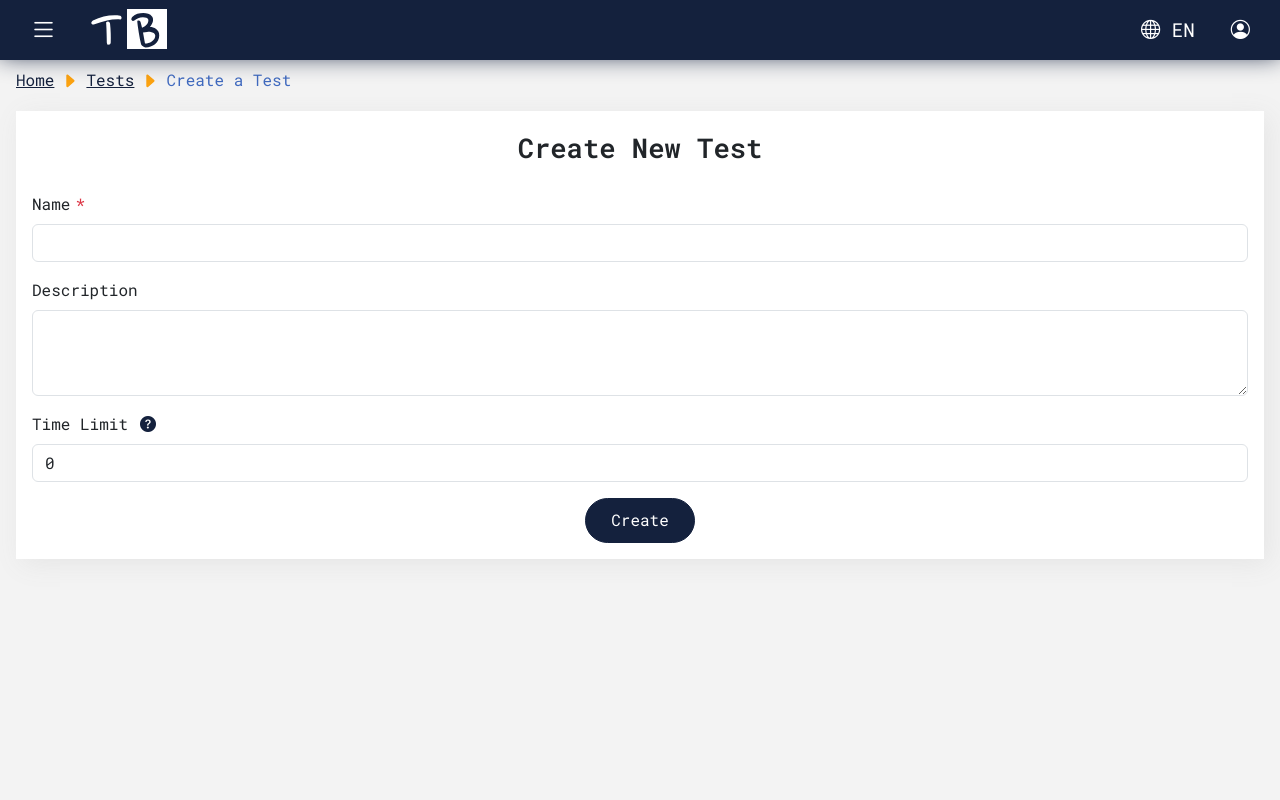
Test: CreateTestView › submit invalid values
Type "Test name" into the field with id "test-input-name". click: (640, 243)
box: [32, 224, 1248, 262]
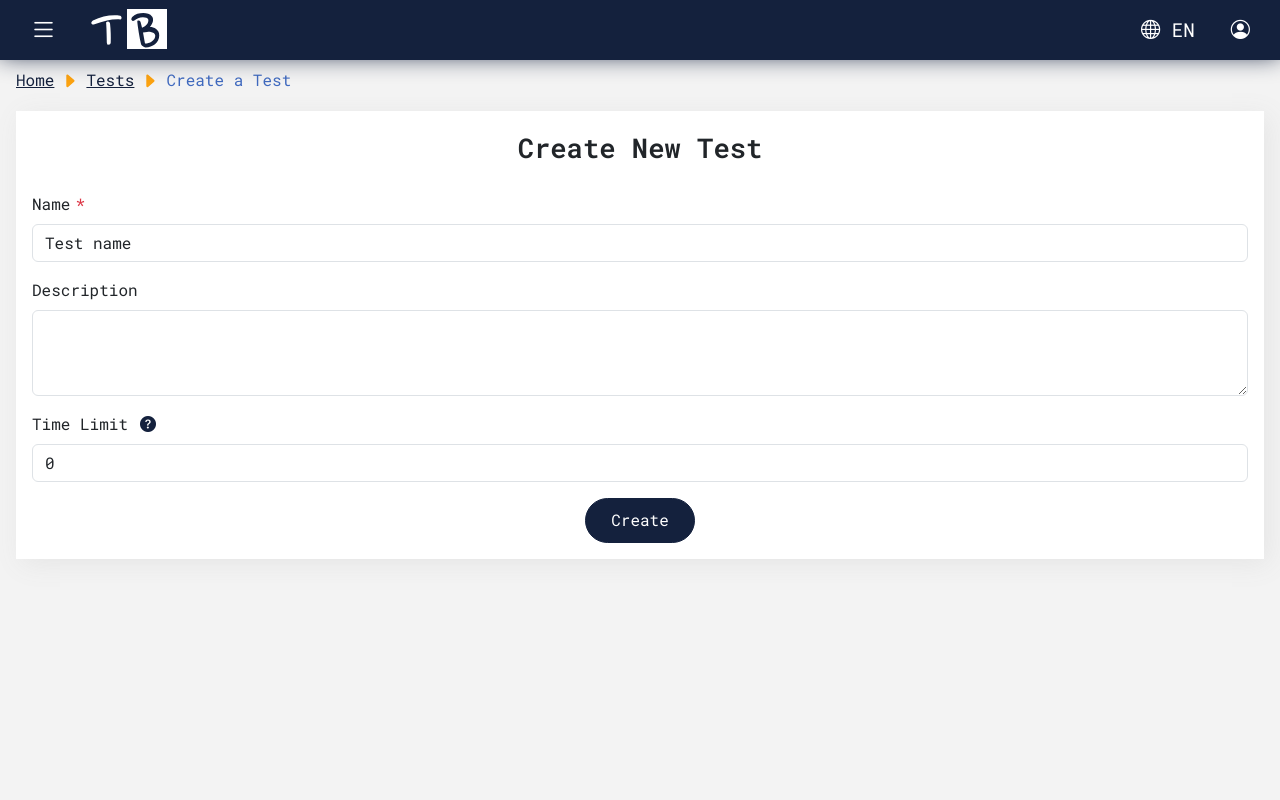
Replace the text in the number field with id "test-input-timelimit" with "-1". click: (640, 463)
box: [32, 444, 1248, 482]
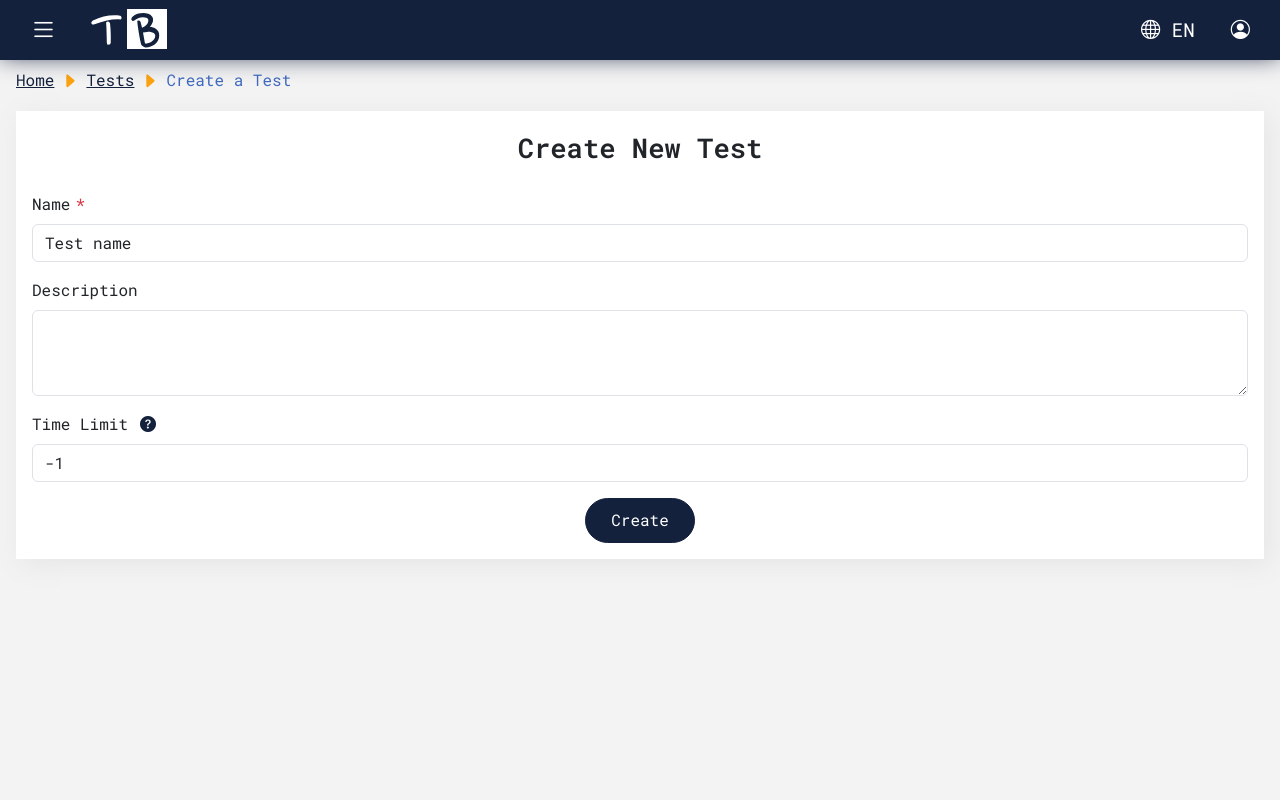
Click the button "Create". click: click(640, 520)
box: [585, 498, 695, 543]
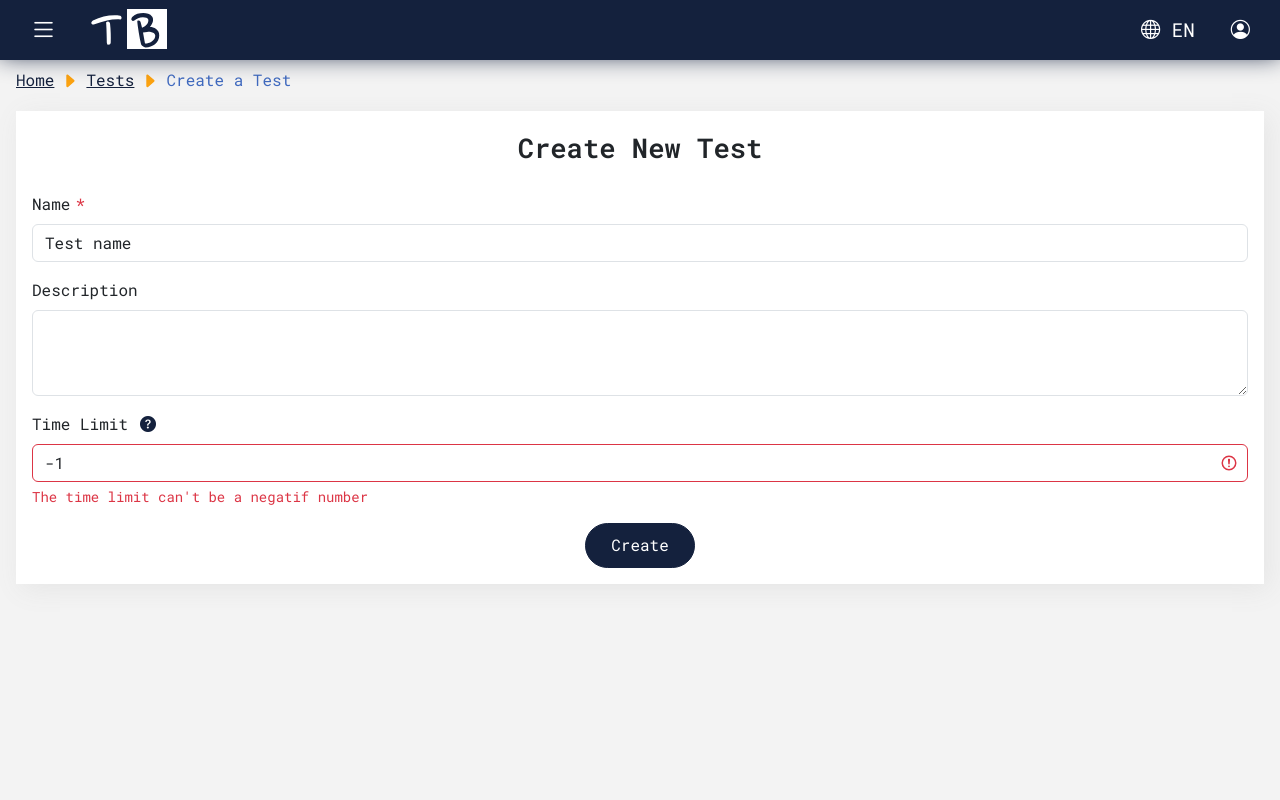
expect the text with class "invalid-feedback" reads "The time limit can't be a negatif number": met, box [32, 487, 368, 506]
